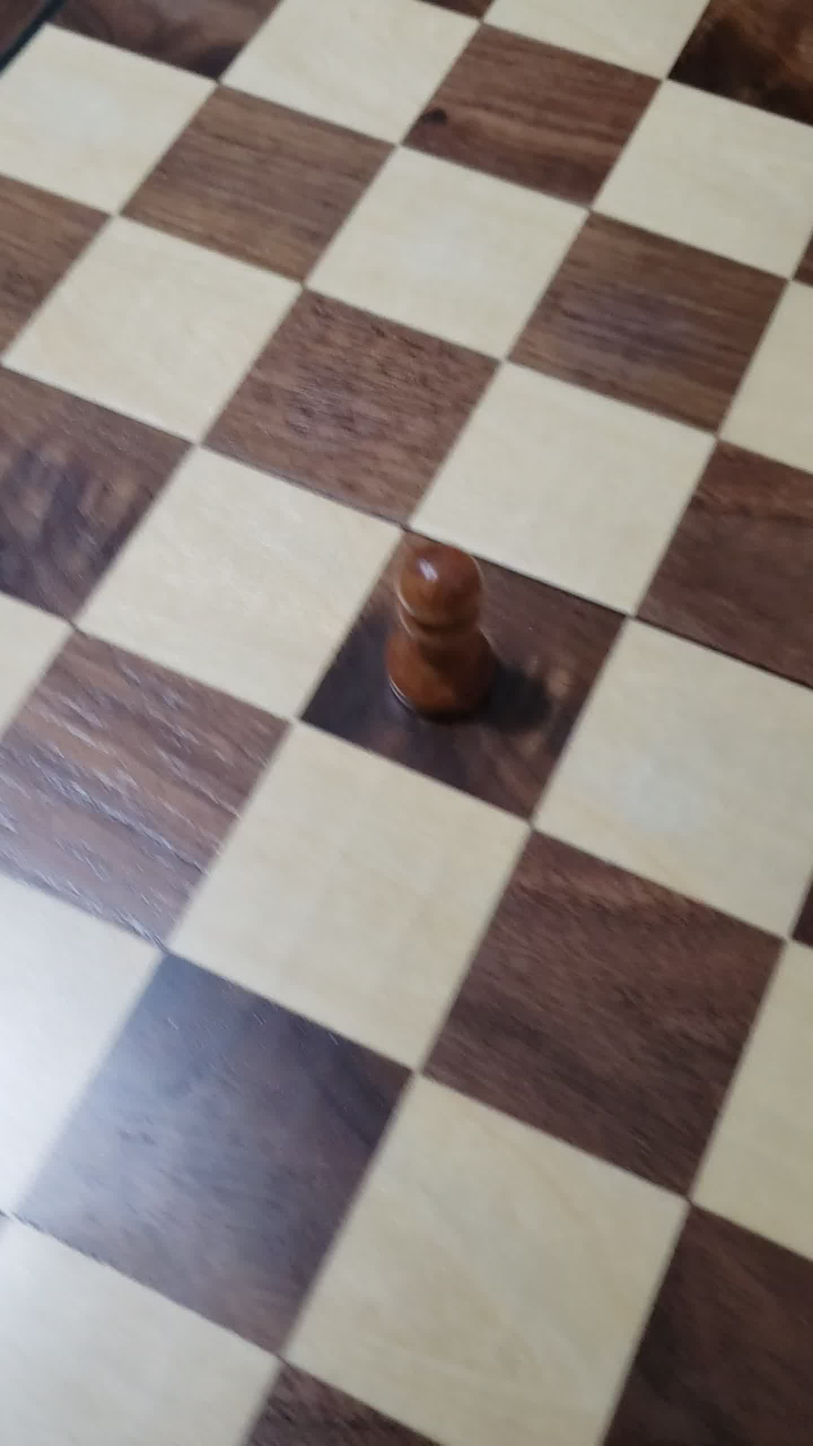black-pawn: (361, 509, 532, 779)
